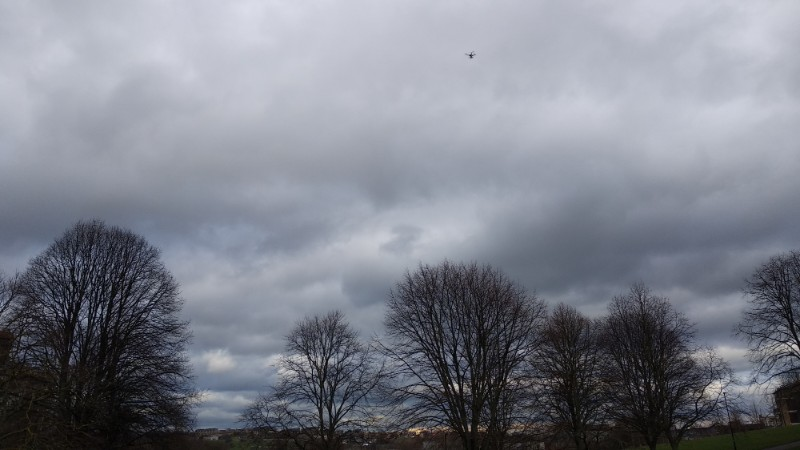drone: (467, 51, 476, 59)
